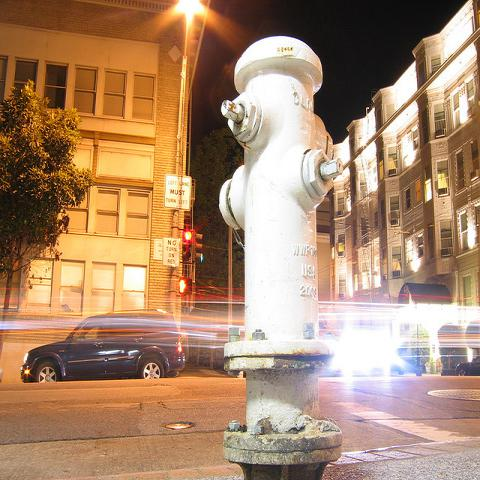car: (20, 316, 186, 384), (374, 346, 405, 376), (454, 357, 480, 376)
truck: (18, 308, 190, 383)
